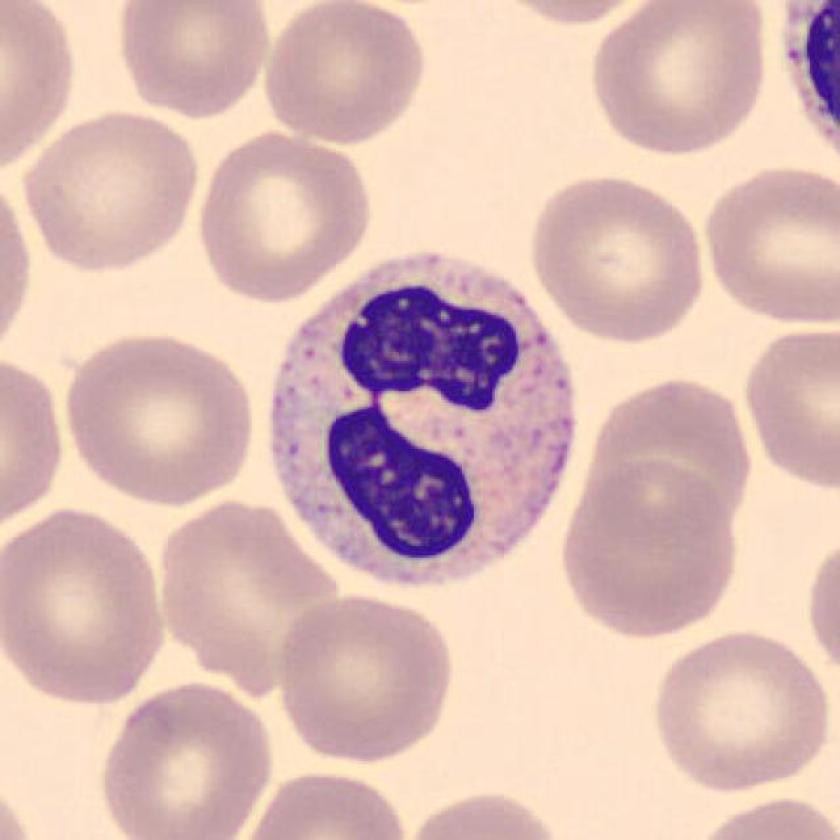neutrophil: (272, 257, 574, 584)
